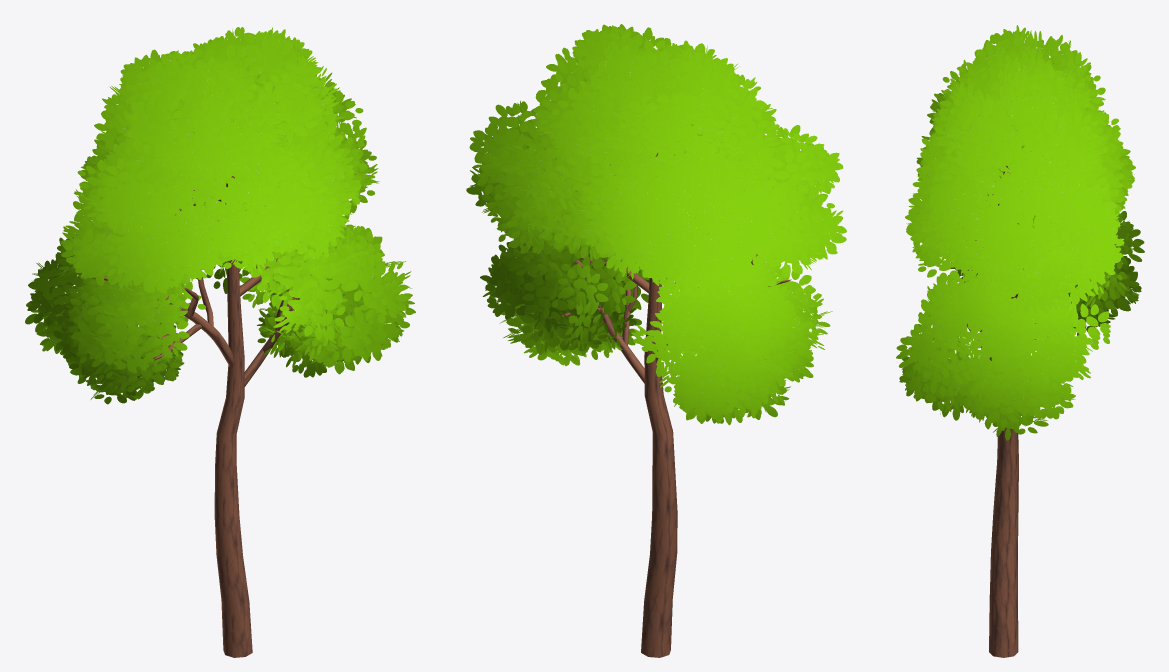
File: etFGNvsiFv-variant-lod.glb
The picture shows the model from 3 angles, left to right: view 1: azimuth 30°, elevation 25°; view 2: azimuth 150°, elevation 25°; view 3: azimuth 270°, elevation 25°; orthographic projection. The views are drawn at different scales.
Parts seen in each view (by area): view 1: NormalTree_1; view 2: NormalTree_1; view 3: NormalTree_1.
Part boxes in pixels (box(x1,y1,x2,y2)): NormalTree_1: box(25, 27, 415, 657); NormalTree_1: box(466, 24, 846, 657); NormalTree_1: box(896, 25, 1144, 657).
Bounding box in the file's own units: 4.05 × 6.87 × 2.74.
Materials: 2 (2 with a texture image).
